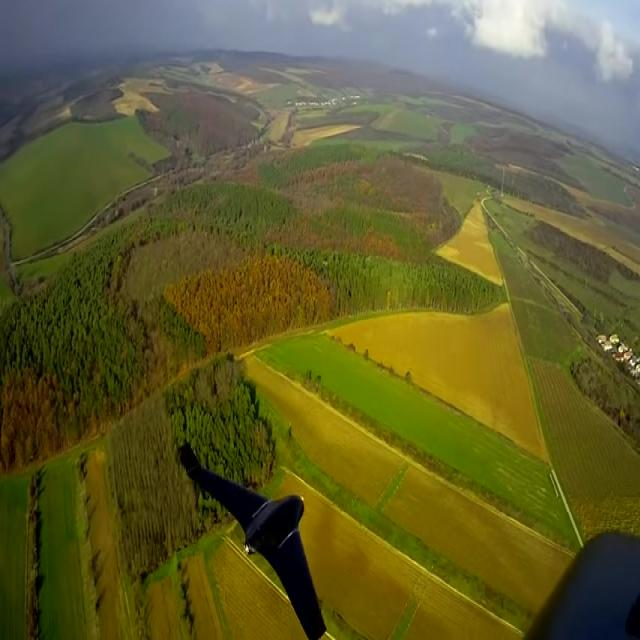iha: (178, 440, 326, 636)
